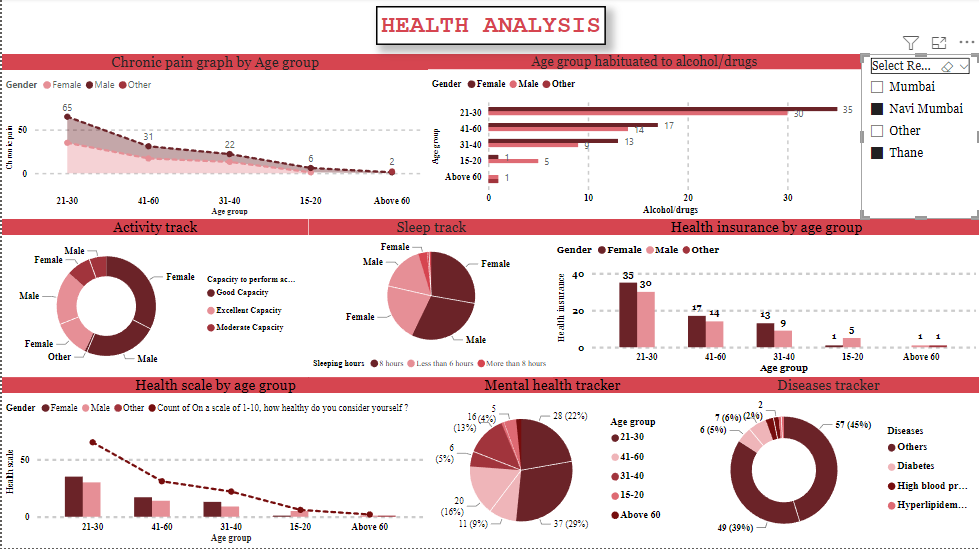

The page's visual inventory and layout, read from the dashboard file:
{"tool":"powerbi","page":{"name":"Page 1","canvas":[1280,720],"ordinal":0},"visuals":[{"type":"clusteredColumnChart","title":"Health insurance by age group","fields":{"Series":["Health Analysis.Gender"],"Category":["Health Analysis.Age group"],"Y":["CountNonNull(Health Analysis.Do you have a health insurance ? )"]},"box":[721.3,289.5,558.7,206.6],"z":0},{"type":"slicer","fields":{"Values":["Health Analysis.Select your region of residence"]},"box":[1124.6,73.9,155.1,215.9],"z":1000},{"type":"lineClusteredColumnComboChart","title":"Health scale by age group","fields":{"Category":["Health Analysis.Age group"],"Series":["Health Analysis.Gender"],"Y":["CountNonNull(Health Analysis.On a scale of 1-10, how healthy do you consider yourself ?)"],"Y2":["CountNonNull(Health Analysis.On a scale of 1-10, how healthy do you consider yourself ?)"]},"box":[0,496.1,558.7,223.5],"z":2000},{"type":"stackedAreaChart","title":"Chronic pain graph by Age group ","fields":{"Category":["Health Analysis.Age group"],"Y":["CountNonNull(Health Analysis.Do you experience any chronic pain ?)"],"Series":["Health Analysis.Gender"]},"box":[0,73.4,558.3,216.1],"z":3000},{"type":"donutChart","title":"Activity track","fields":{"Category":["Health Analysis.In your opinion, at what capacity can you perform everyday activities ? "],"Series":["Health Analysis.Gender"],"Y":["CountNonNull(Health Analysis.Gender)"]},"box":[0,289.5,401.3,206.6],"z":4000},{"type":"clusteredBarChart","title":"Age group  habituated to alcohol/drugs","fields":{"Y":["CountNonNull(Health Analysis.Are you habituated to alcohol/drugs ?)"],"Series":["Health Analysis.Gender"],"Category":["Health Analysis.Age group"]},"box":[558.3,73.4,566.6,216.1],"z":5000},{"type":"pieChart","title":"Mental health tracker","fields":{"Category":["Health Analysis.Age group"],"Y":["CountNonNull(Health Analysis.Does your mental well being has an affect on your physical health ?)"],"Series":["Health Analysis.Does your mental well being has an affect on your physical health ?"]},"box":[558.3,495.9,325.5,223],"z":6000},{"type":"donutChart","title":"Diseases tracker","fields":{"Series":["Health Analysis.Gender"],"Category":["Health Analysis.Do you have any hereditary conditions/ diseases ?"],"Y":["CountNonNull(Health Analysis.Do you have any hereditary conditions/ diseases ?)"]},"box":[883.8,495.9,396.2,223],"z":7000},{"type":"pieChart","title":"Sleep track","fields":{"Category":["Health Analysis.How much hours of sleep do you get on a daily basis ? "],"Y":["CountNonNull(Health Analysis.Gender)"],"Series":["Health Analysis.Gender"]},"box":[401.3,289.5,320,206.6],"z":8000},{"type":"shape","box":[489,11.1,300.6,51.3],"z":9000}]}

Visuals, with their boxes in screenshot pixels (x1, y1, x2, y2), scaled from the page's 1280x720 canvas onto the 979x549 screenshot:
"Health insurance by age group" clusteredColumnChart: {"left": 552, "top": 221, "right": 978, "bottom": 378}
slicer - Health Analysis.Select your region of residence: {"left": 860, "top": 56, "right": 978, "bottom": 221}
"Health scale by age group" lineClusteredColumnComboChart: {"left": 0, "top": 378, "right": 427, "bottom": 548}
"Chronic pain graph by Age group " stackedAreaChart: {"left": 0, "top": 56, "right": 427, "bottom": 221}
"Activity track" donutChart: {"left": 0, "top": 221, "right": 307, "bottom": 378}
"Age group  habituated to alcohol/drugs" clusteredBarChart: {"left": 427, "top": 56, "right": 860, "bottom": 221}
"Mental health tracker" pieChart: {"left": 427, "top": 378, "right": 676, "bottom": 548}
"Diseases tracker" donutChart: {"left": 676, "top": 378, "right": 978, "bottom": 548}
"Sleep track" pieChart: {"left": 307, "top": 221, "right": 552, "bottom": 378}
shape: {"left": 374, "top": 8, "right": 604, "bottom": 48}
